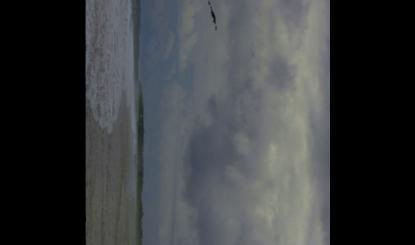B1: (208, 0, 216, 32)
